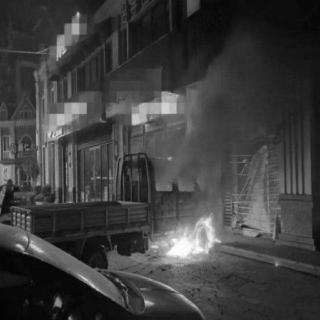Smoke: (197, 47, 297, 144)
